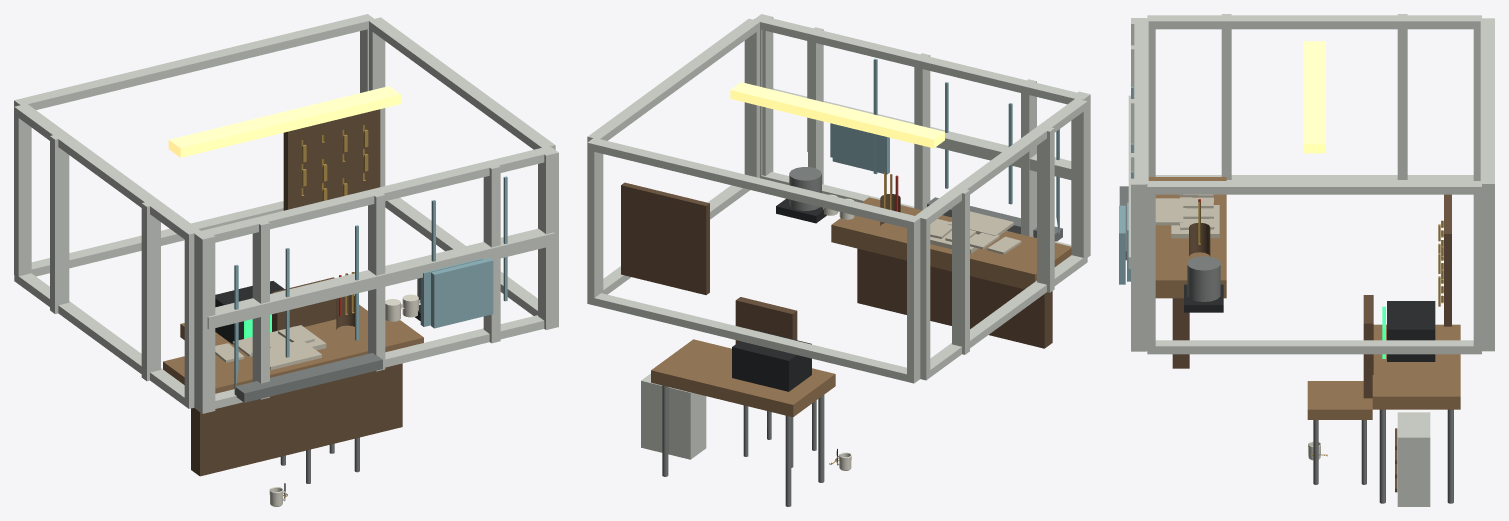
File: booth-guard-props.glb
The picture shows the model from 3 angles, left to right: view 1: azimuth 30°, elevation 25°; view 2: azimuth 150°, elevation 25°; view 3: azimuth 270°, elevation 25°; orthographic projection. The views are drawn at different scales.
Visible parts, largest first — view 1: yard_booth_glazing, yard_booth_interior, yard_booth_practicals, yard_booth_handoff; view 2: yard_booth_glazing, yard_booth_interior, yard_booth_practicals, yard_booth_handoff; view 3: yard_booth_glazing, yard_booth_interior, yard_booth_practicals, yard_booth_handoff.
Boxes of the visible parts, bbox=[...] form: yard_booth_glazing: bbox=[14, 14, 558, 413]; yard_booth_interior: bbox=[163, 109, 423, 483]; yard_booth_practicals: bbox=[168, 86, 400, 338]; yard_booth_handoff: bbox=[251, 340, 321, 370]; yard_booth_glazing: bbox=[587, 14, 1090, 383]; yard_booth_interior: bbox=[621, 167, 1071, 506]; yard_booth_practicals: bbox=[730, 82, 944, 148]; yard_booth_handoff: bbox=[948, 211, 1013, 235]; yard_booth_glazing: bbox=[1119, 14, 1494, 354]; yard_booth_interior: bbox=[1148, 177, 1460, 506]; yard_booth_practicals: bbox=[1303, 41, 1385, 358]; yard_booth_handoff: bbox=[1155, 198, 1183, 225].
Size of the model in its own units: 2.88 by 2.87 by 2.65.
